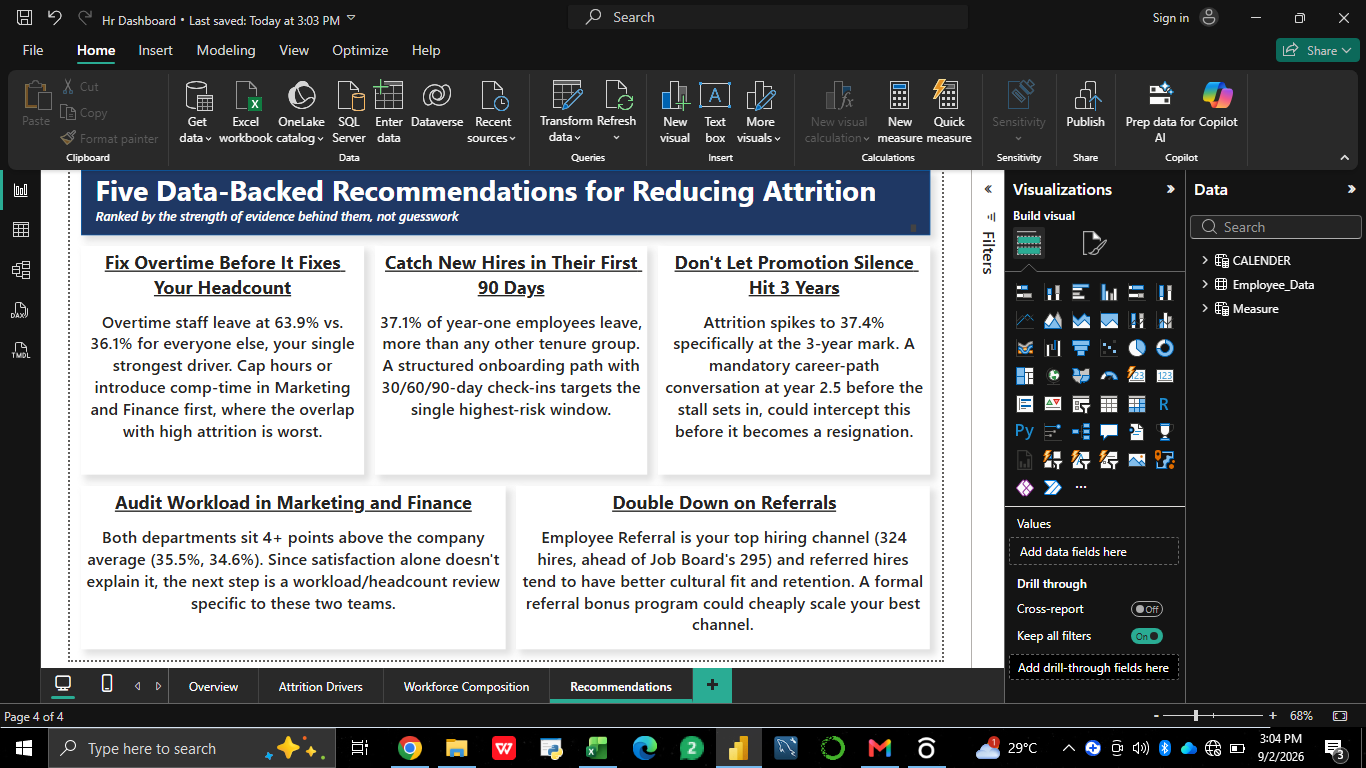

What the dashboard file says about the page in this screenshot:
{"tool":"powerbi","page":{"name":"Recommendations","canvas":[1280,720],"ordinal":3},"visuals":[{"type":"shape","box":[16,0,1248,96],"z":0},{"type":"textbox","title":"Five Data-Backed Recommendations for Reducing Attrition","box":[32,0,1216,96],"z":1000},{"type":"textbox","box":[16,128,560,224],"z":2000},{"type":"textbox","box":[16,112,416,336],"z":3000},{"type":"textbox","box":[448,112,400,336],"z":4000},{"type":"textbox","box":[16,464,624,240],"z":5000},{"type":"textbox","box":[656,464,608,240],"z":6000},{"type":"textbox","box":[864,112,400,336],"z":7000}]}

Visuals, with their boxes on the page's 1280x720 design canvas (x1, y1, x2, y2). These are canvas units, not pixel positions in the 1366x768 screenshot, which may show the page scaled, cropped or inside an application window:
shape: (16,0,1264,96)
"Five Data-Backed Recommendations for Reducing Attrition" textbox: (32,0,1248,96)
textbox: (16,128,576,352)
textbox: (16,112,432,448)
textbox: (448,112,848,448)
textbox: (16,464,640,704)
textbox: (656,464,1264,704)
textbox: (864,112,1264,448)
